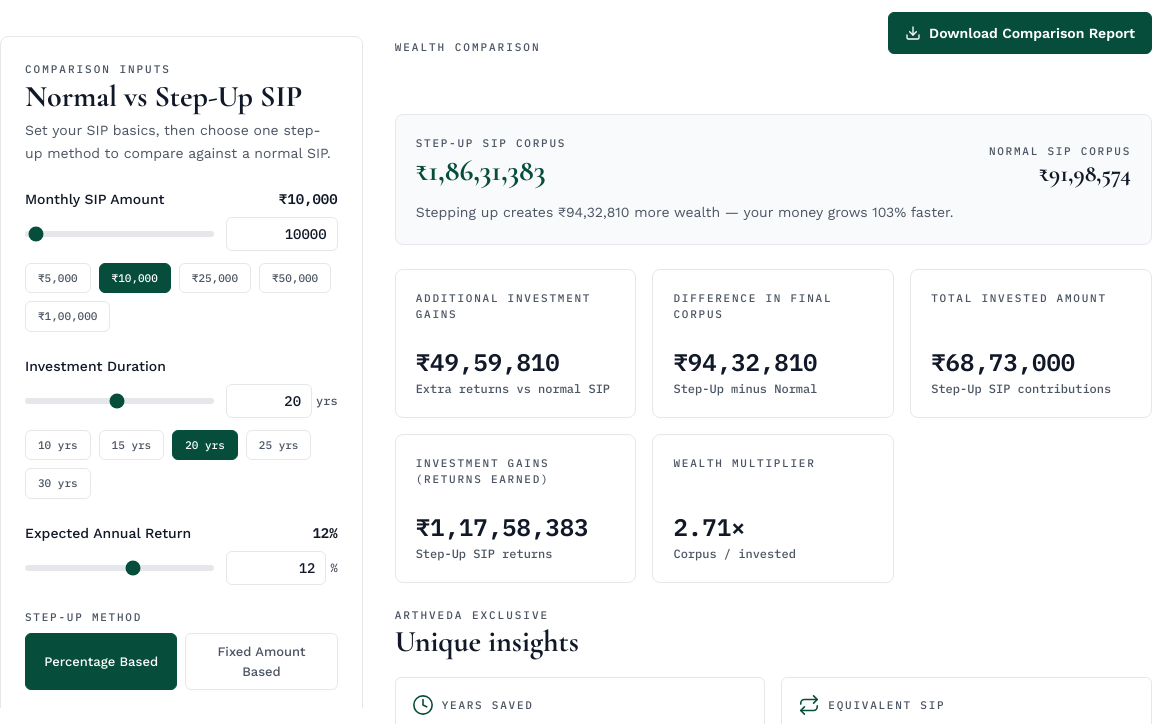
SipVsStepUpCalculator › applies a SIP preset and recomputes the step-up corpus
Click the button "₹50,000" at (295, 278), box [259,262,331,293]
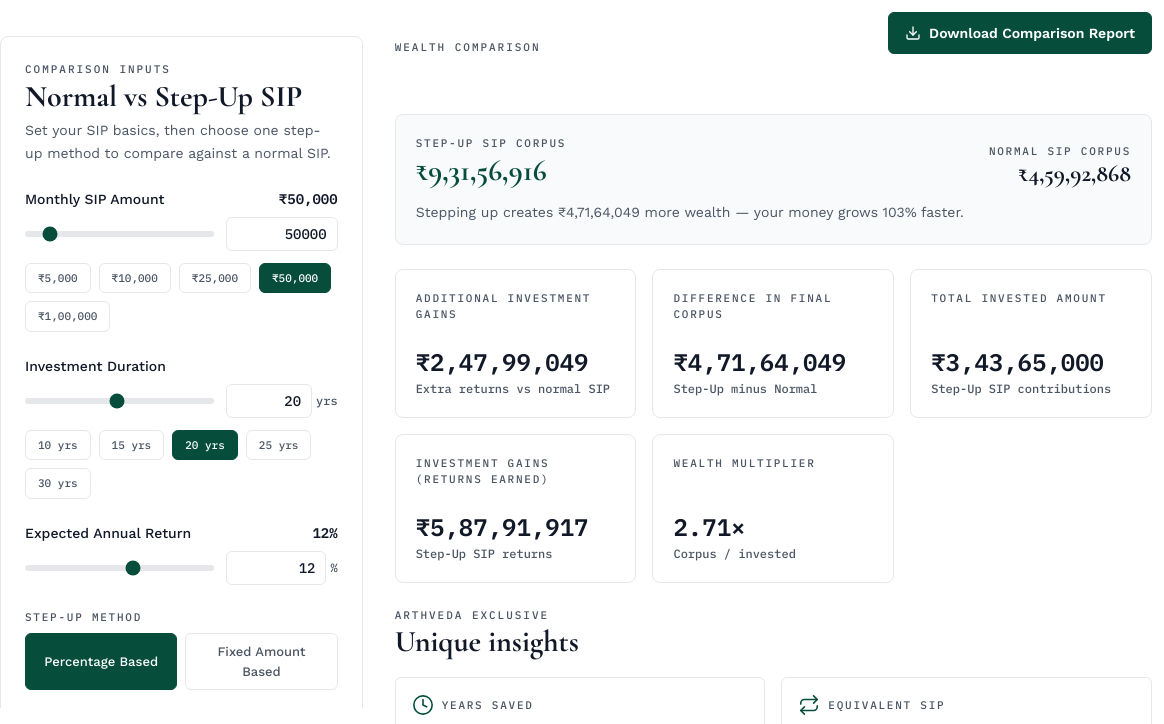
Expected: the number field with test id "field-stepup-amount-input" holds "50000", [226,216,338,250]
